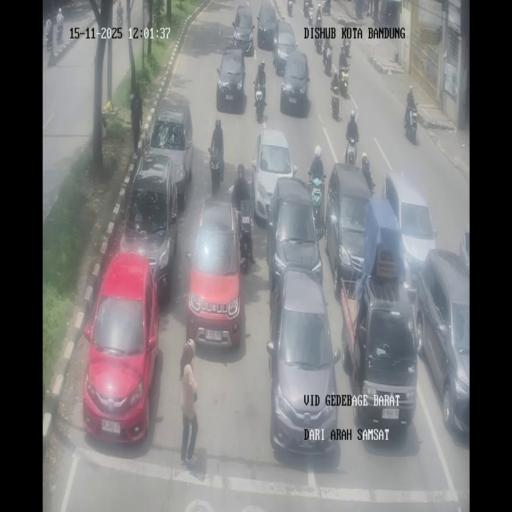car: (82, 251, 160, 443), (266, 268, 340, 456), (340, 262, 418, 437), (414, 250, 469, 439), (118, 152, 180, 298), (186, 199, 245, 349), (382, 171, 438, 294), (326, 162, 373, 290), (252, 126, 296, 225), (215, 45, 247, 113), (280, 50, 311, 118), (231, 3, 255, 54), (256, 2, 278, 50), (459, 228, 470, 281)
truck: (236, 198, 254, 270), (309, 174, 325, 232), (209, 146, 222, 193), (404, 102, 418, 142), (253, 87, 266, 123), (345, 134, 358, 166), (338, 64, 350, 97), (362, 166, 376, 194), (330, 84, 340, 120), (322, 44, 333, 76), (311, 2, 323, 30), (314, 27, 323, 54), (341, 37, 351, 59), (45, 26, 52, 51), (56, 20, 63, 44), (303, 2, 312, 20), (378, 5, 386, 24), (116, 8, 123, 27), (362, 0, 370, 16), (287, 1, 294, 17), (322, 0, 330, 14)
